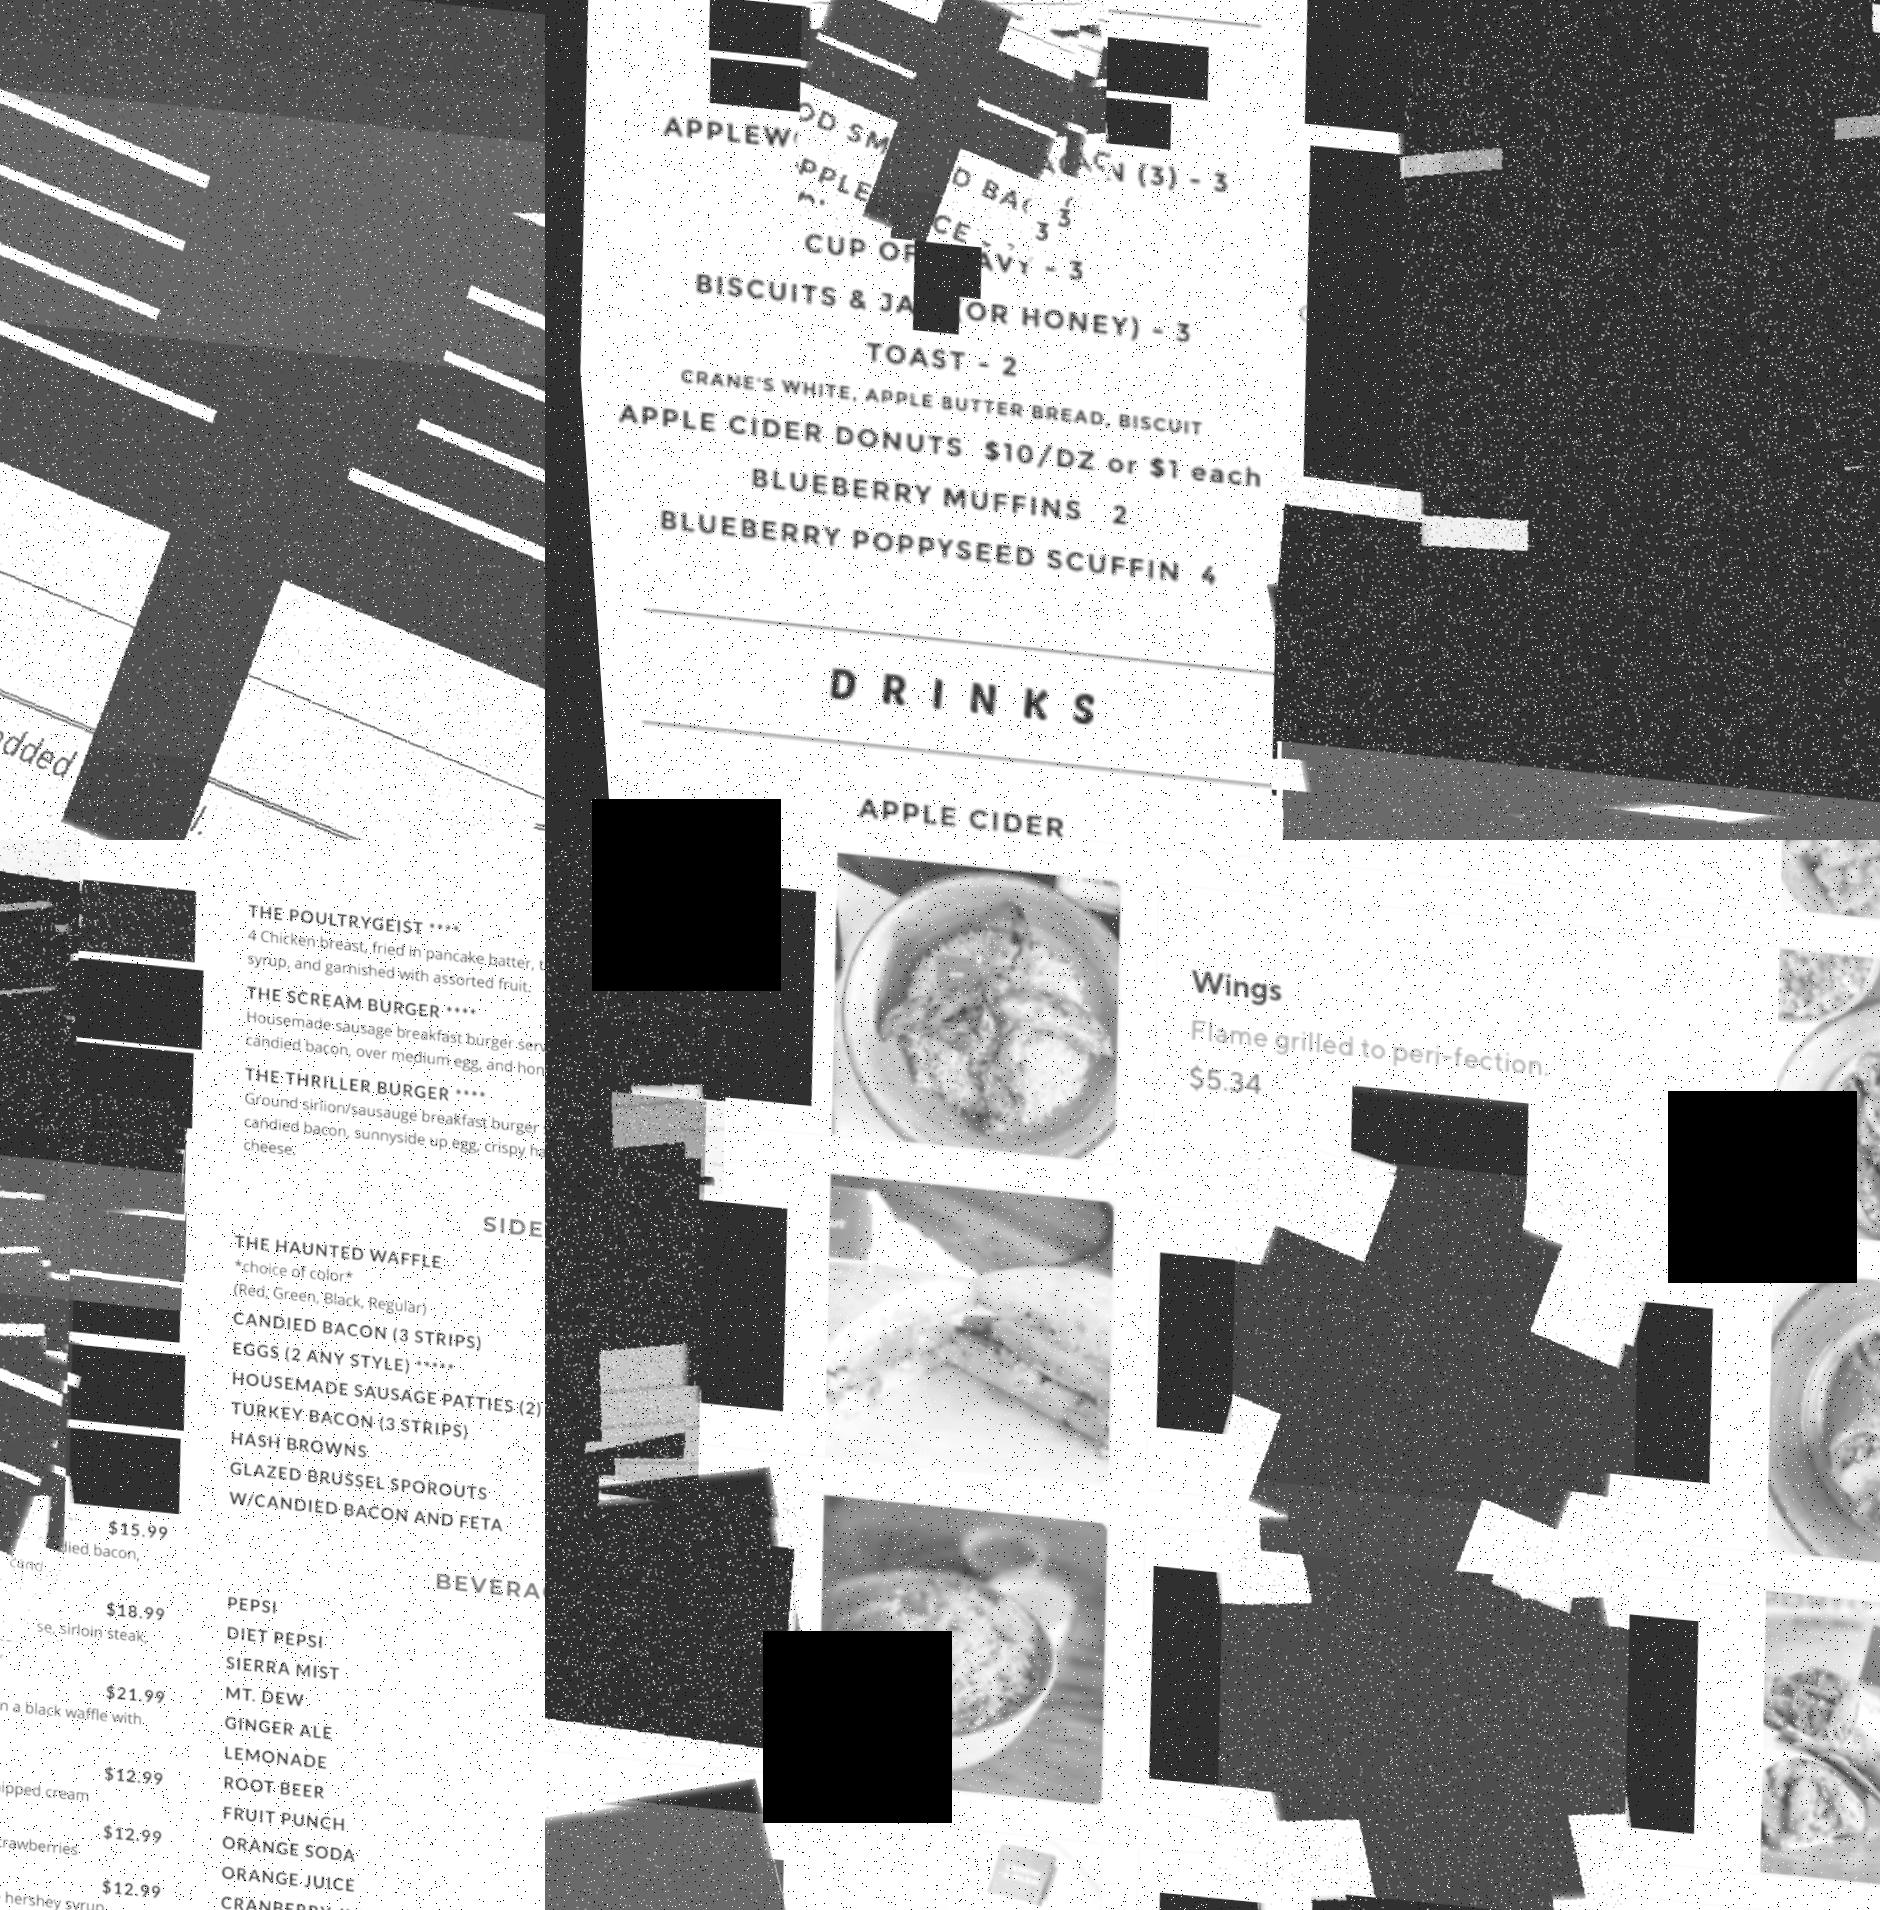Menu-Items: (0, 24, 546, 840), (0, 0, 546, 803), (0, 0, 546, 710), (1350, 34, 1880, 653), (1234, 462, 1880, 840), (1169, 1473, 1632, 1910), (1188, 1144, 1646, 1584), (0, 47, 546, 413), (0, 0, 546, 343), (0, 0, 546, 327), (1403, 0, 1880, 331), (1145, 944, 1653, 1150), (0, 0, 546, 171), (771, 0, 1090, 255), (546, 1438, 799, 1757), (594, 388, 1258, 503), (625, 487, 1217, 617), (546, 1059, 713, 1500), (782, 0, 1119, 208), (546, 840, 744, 1194), (1234, 739, 1880, 840), (635, 107, 1246, 205), (656, 348, 1210, 451), (678, 253, 1191, 360), (1210, 1791, 1615, 1910), (220, 1057, 546, 1202), (208, 1214, 546, 1350), (224, 978, 546, 1102), (231, 896, 546, 1021), (0, 1113, 182, 1309), (0, 1040, 184, 1233), (546, 1758, 776, 1910), (718, 456, 1131, 537), (0, 866, 84, 1250), (210, 1304, 546, 1383), (210, 1423, 546, 1502), (212, 1366, 546, 1443), (212, 1395, 546, 1473), (210, 1454, 546, 1529), (213, 1336, 546, 1411), (782, 219, 1090, 295), (0, 840, 193, 959), (792, 167, 1083, 241), (0, 1462, 160, 1590), (0, 1543, 153, 1672), (0, 1629, 153, 1750), (0, 1708, 148, 1814), (203, 1486, 513, 1535), (0, 1770, 146, 1865), (0, 1822, 148, 1910), (837, 329, 1033, 388)
